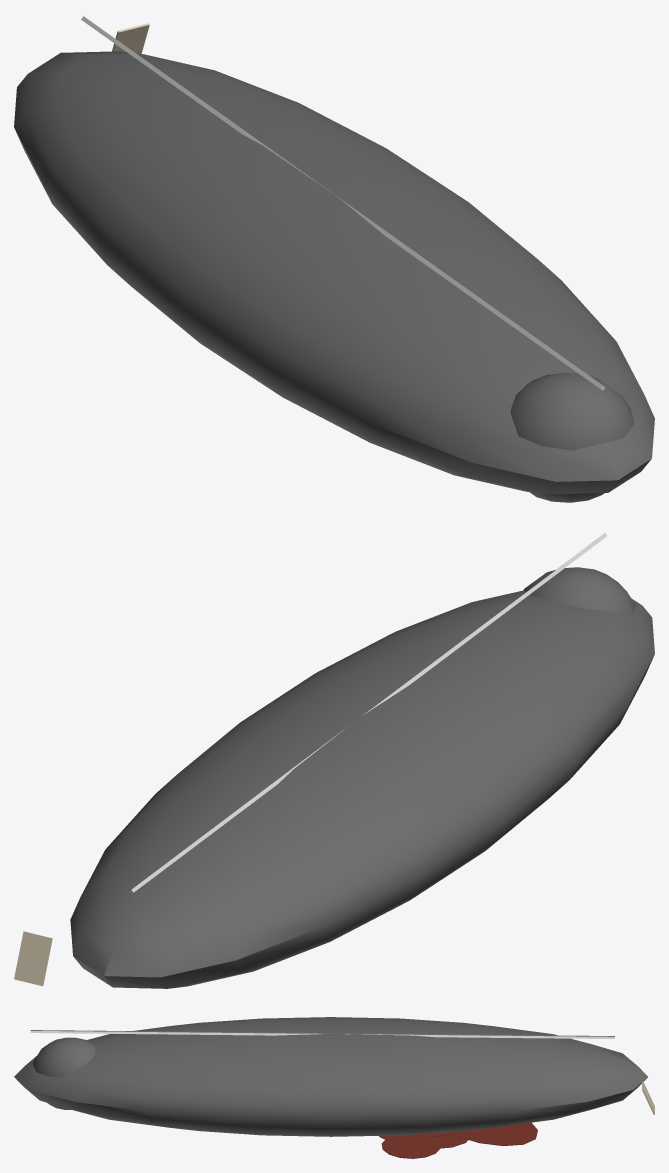
Rendered from body_bag.glb.
The picture shows the model from 3 angles, top to bottom: view 1: azimuth 30°, elevation 25°; view 2: azimuth 150°, elevation 25°; view 3: azimuth 270°, elevation 25°; orthographic projection. The views are drawn at different scales.
Parts seen in each view (by area): view 1: body_bag; view 2: body_bag; view 3: body_bag.
Part boxes in pixels (x1,y1,x2,y2): body_bag: (14,16,654,502); body_bag: (14,533,654,988); body_bag: (14,1017,654,1158).
Size of the model in its own units: 0.6295 by 0.295 by 1.92.
